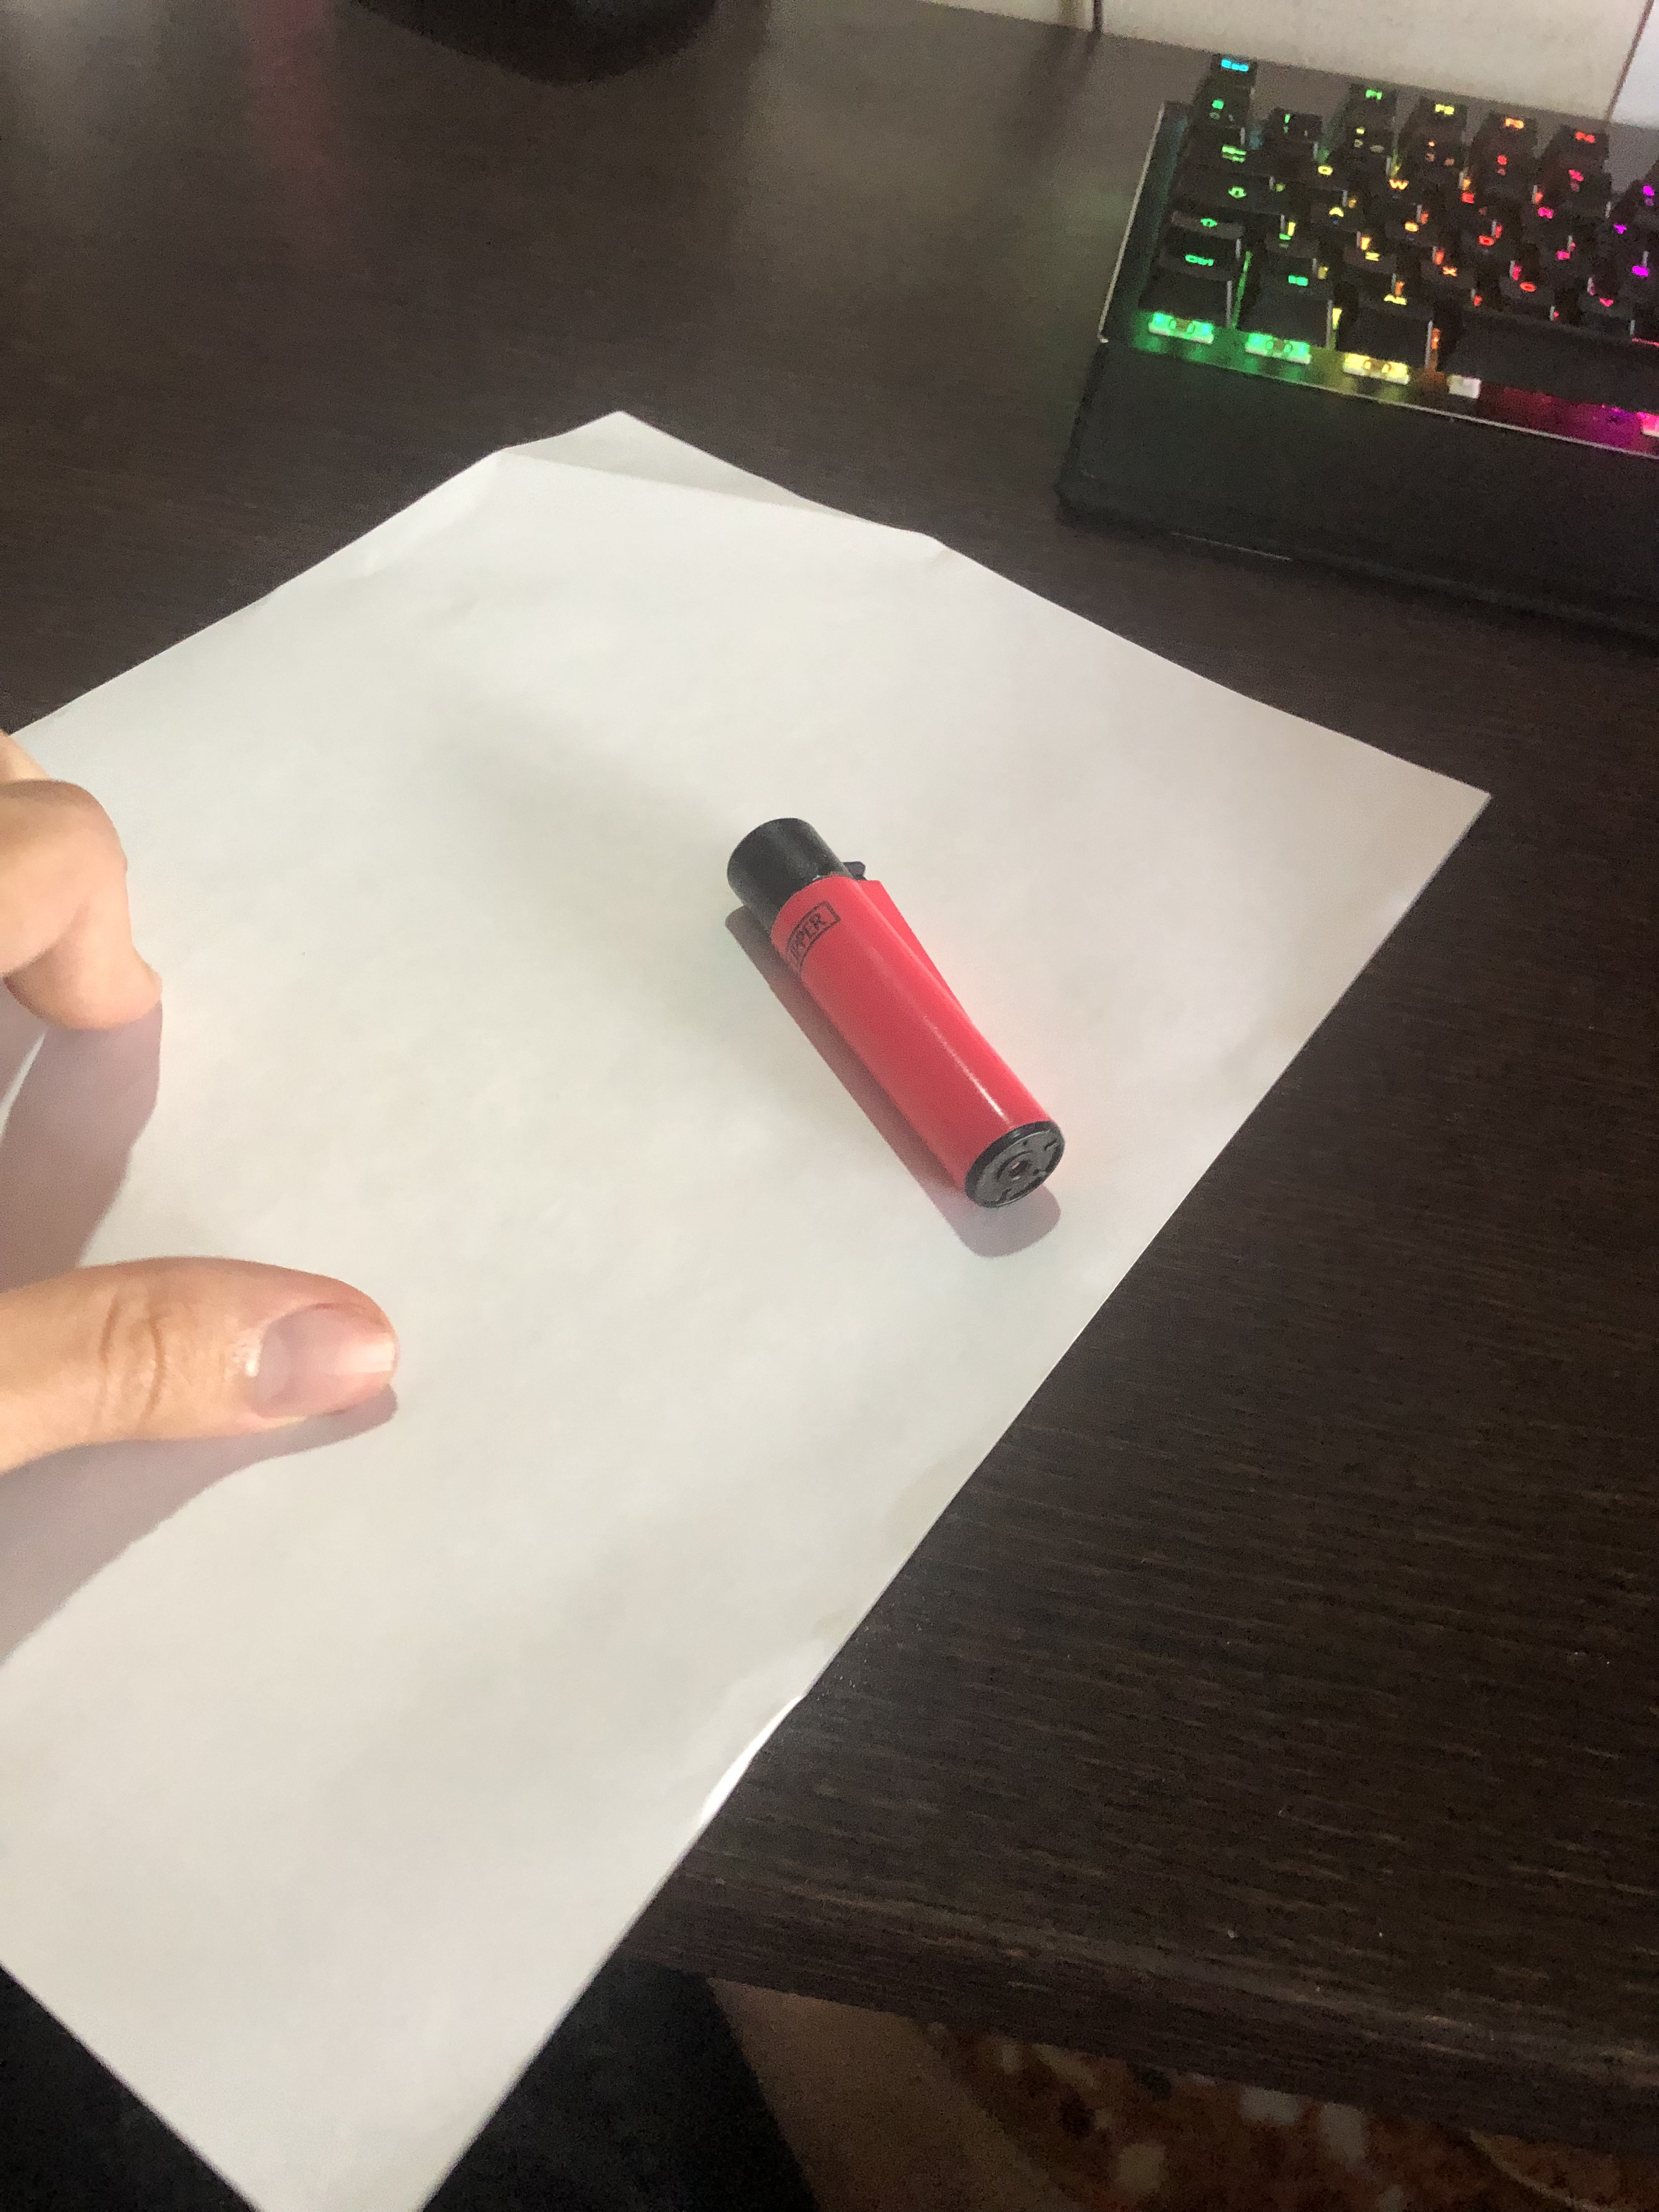Mechero: (716, 817, 1084, 1221)
